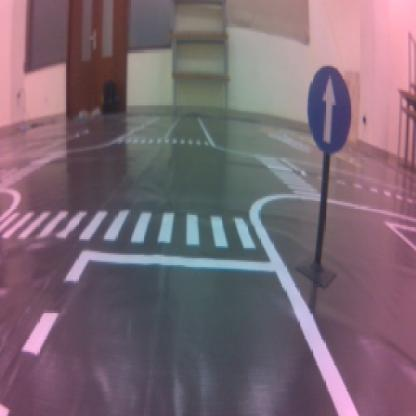bathroom sign: (307, 67, 350, 153)
